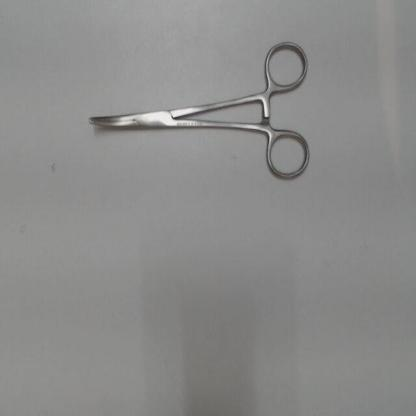Crile Artery Forceps: (81, 37, 318, 194)
